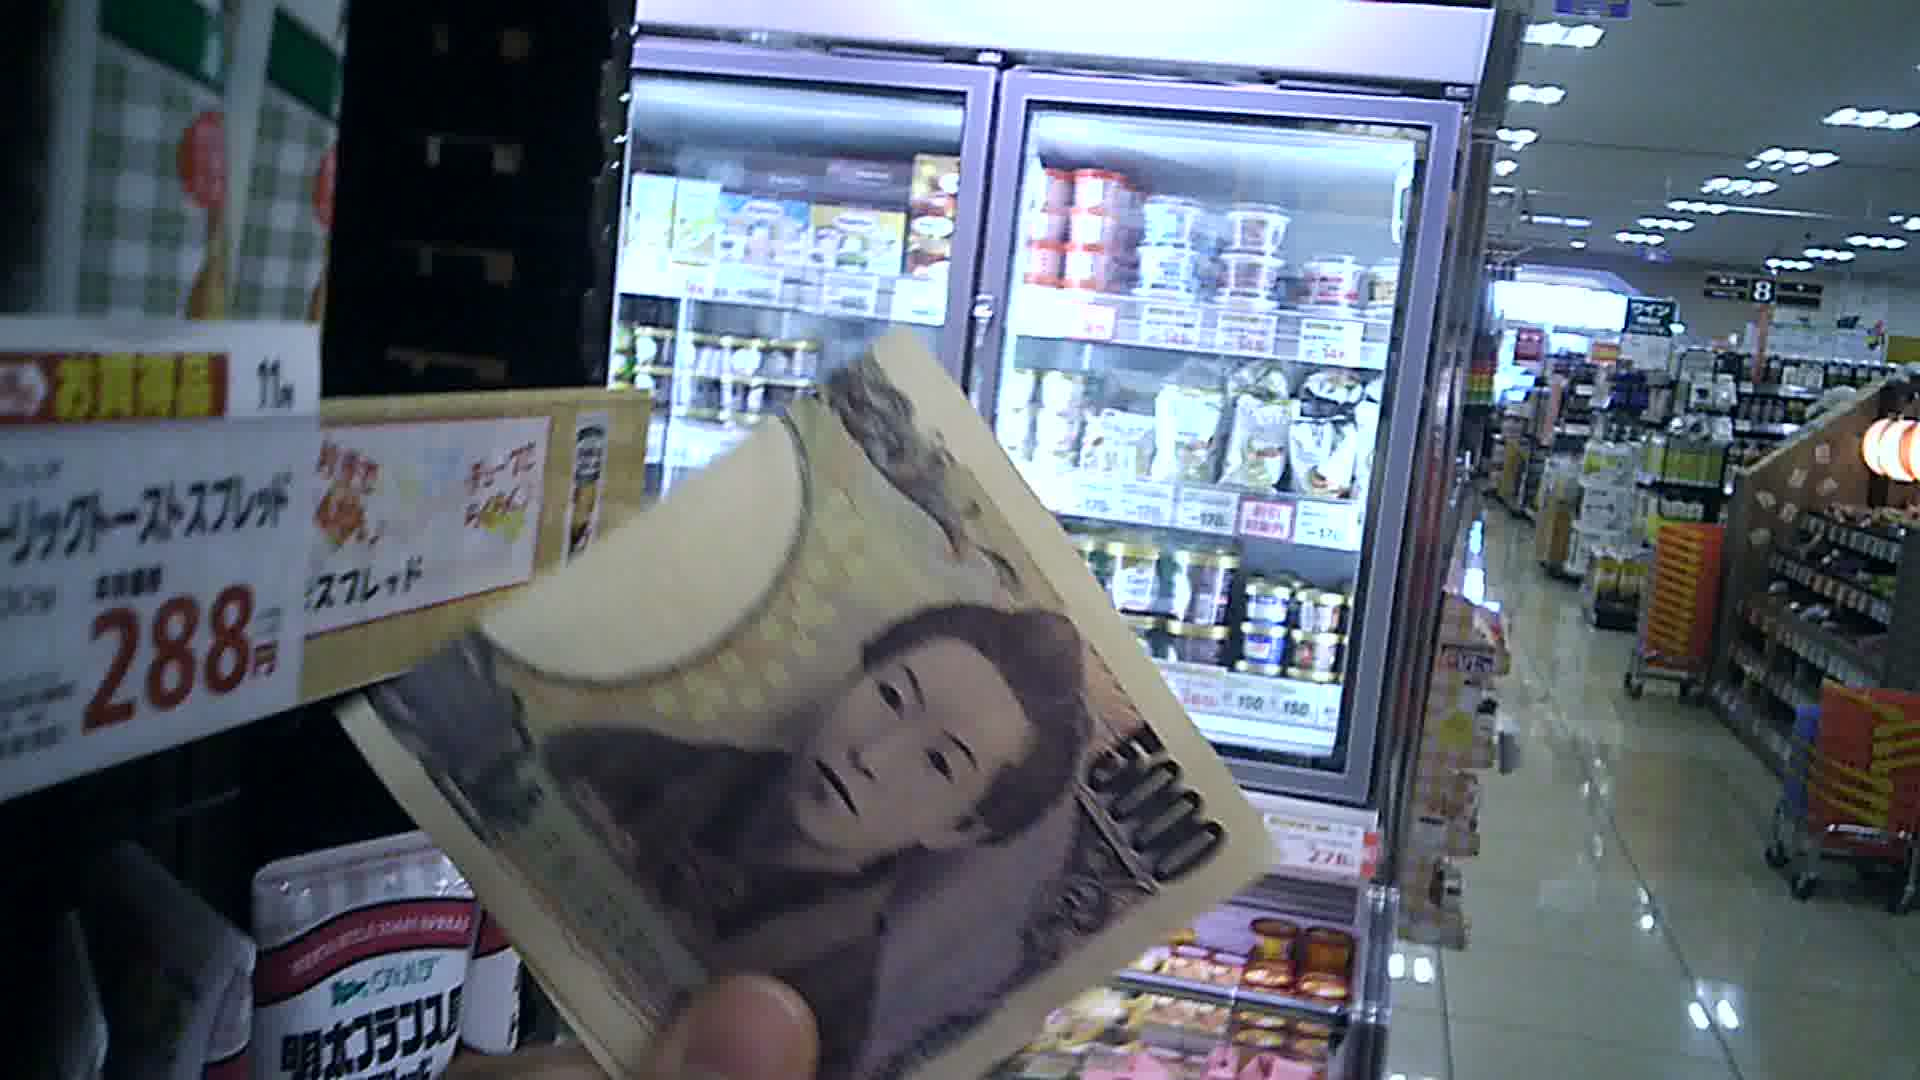5,000 Yen: (324, 334, 1241, 1056)
